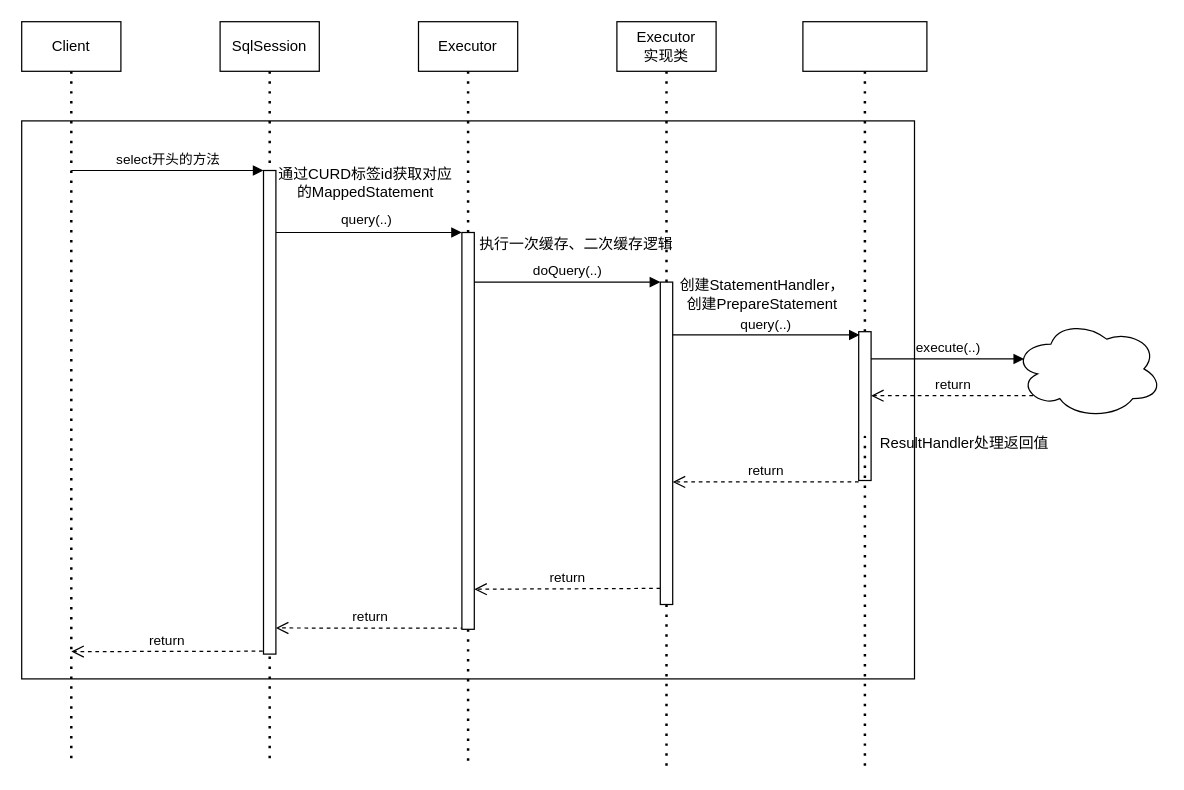
Image size: 1184x790. Some labels were removed from this diagram. Each missing label, with the centre of its shape:
Java程序访问数据库的标准接口: pixel 1087 368
StatementHandler: pixel 864 45
